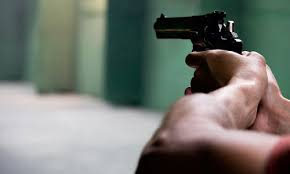pistol: (150, 8, 248, 97)
